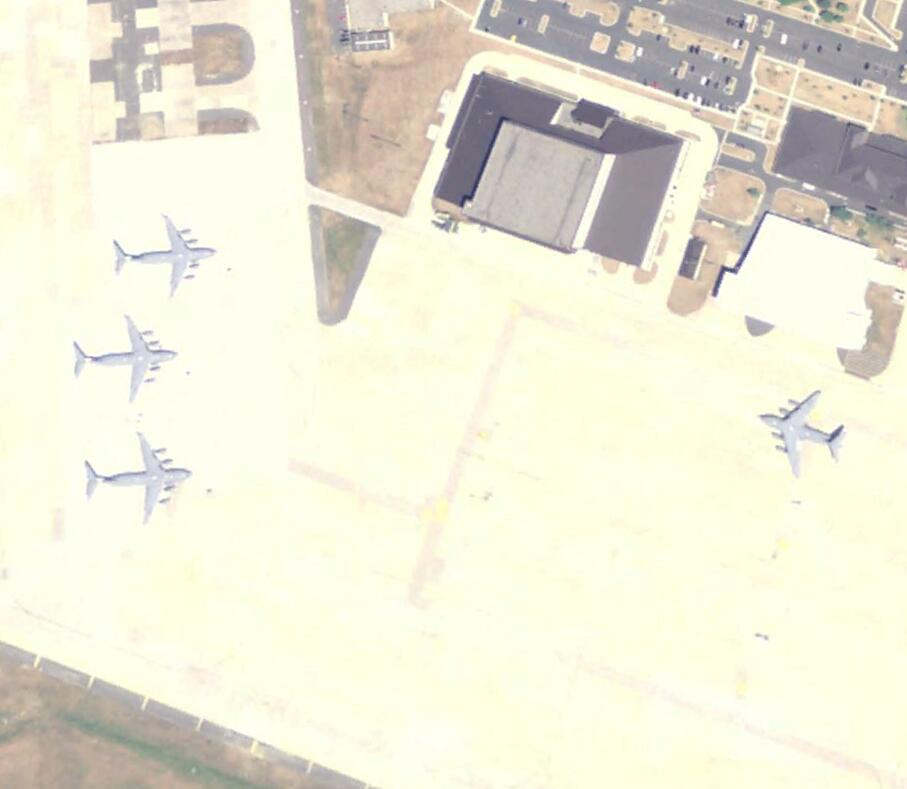A3: (85, 433, 195, 524), (112, 214, 220, 302), (72, 317, 181, 402), (759, 391, 851, 475)
